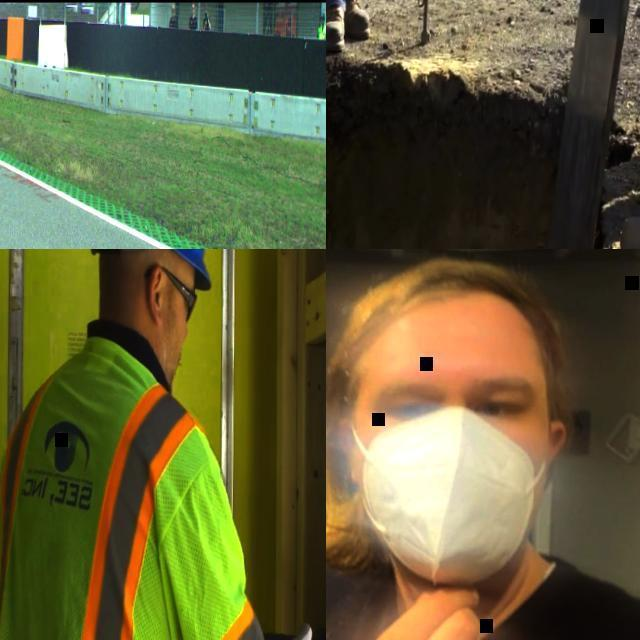helmet: (78, 249, 230, 377)
no_helmet: (355, 262, 575, 577)
